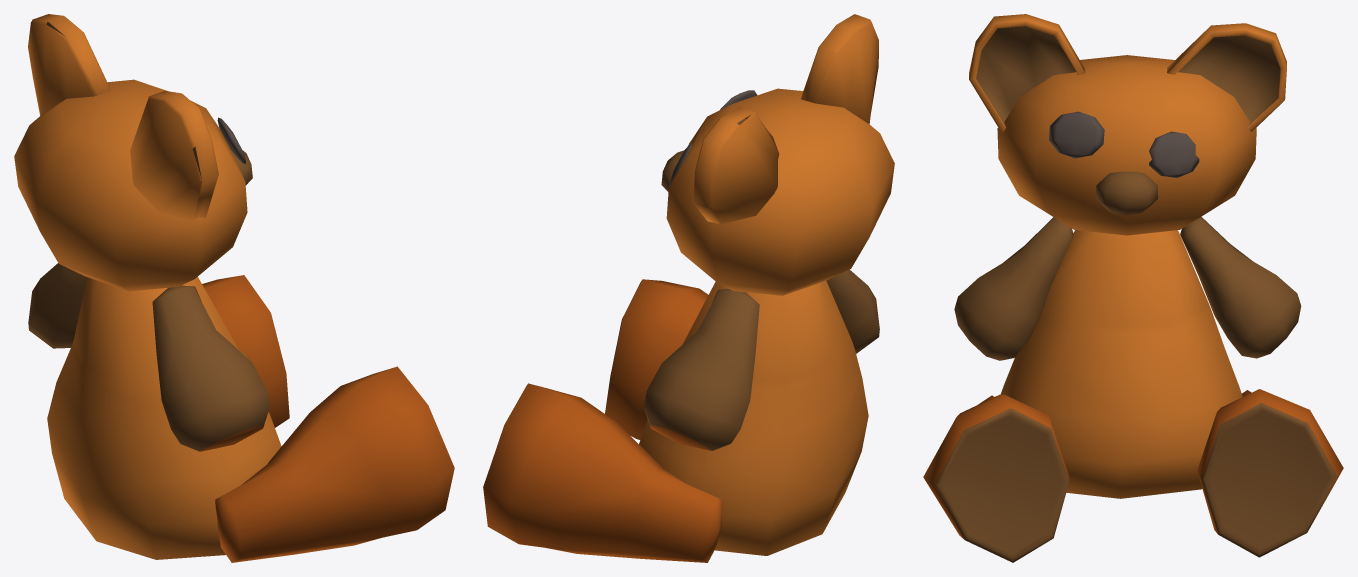
The model's file is SM_Bear_4.fbx.
3 renders of one model, left to right at view 1: azimuth 30°, elevation 25°; view 2: azimuth 150°, elevation 25°; view 3: azimuth 270°, elevation 25°, orthographic. The views are drawn at different scales.
Visible parts, largest first — view 1: SM_Bear_4; view 2: SM_Bear_4; view 3: SM_Bear_4.
Boxes of the visible parts, bbox=[...] form: SM_Bear_4: bbox=[14, 14, 454, 562]; SM_Bear_4: bbox=[483, 14, 894, 562]; SM_Bear_4: bbox=[923, 14, 1343, 562].
Size of the model in its own units: 21.66 by 26.27 by 31.14.
Materials: 1 (1 with a texture image).
